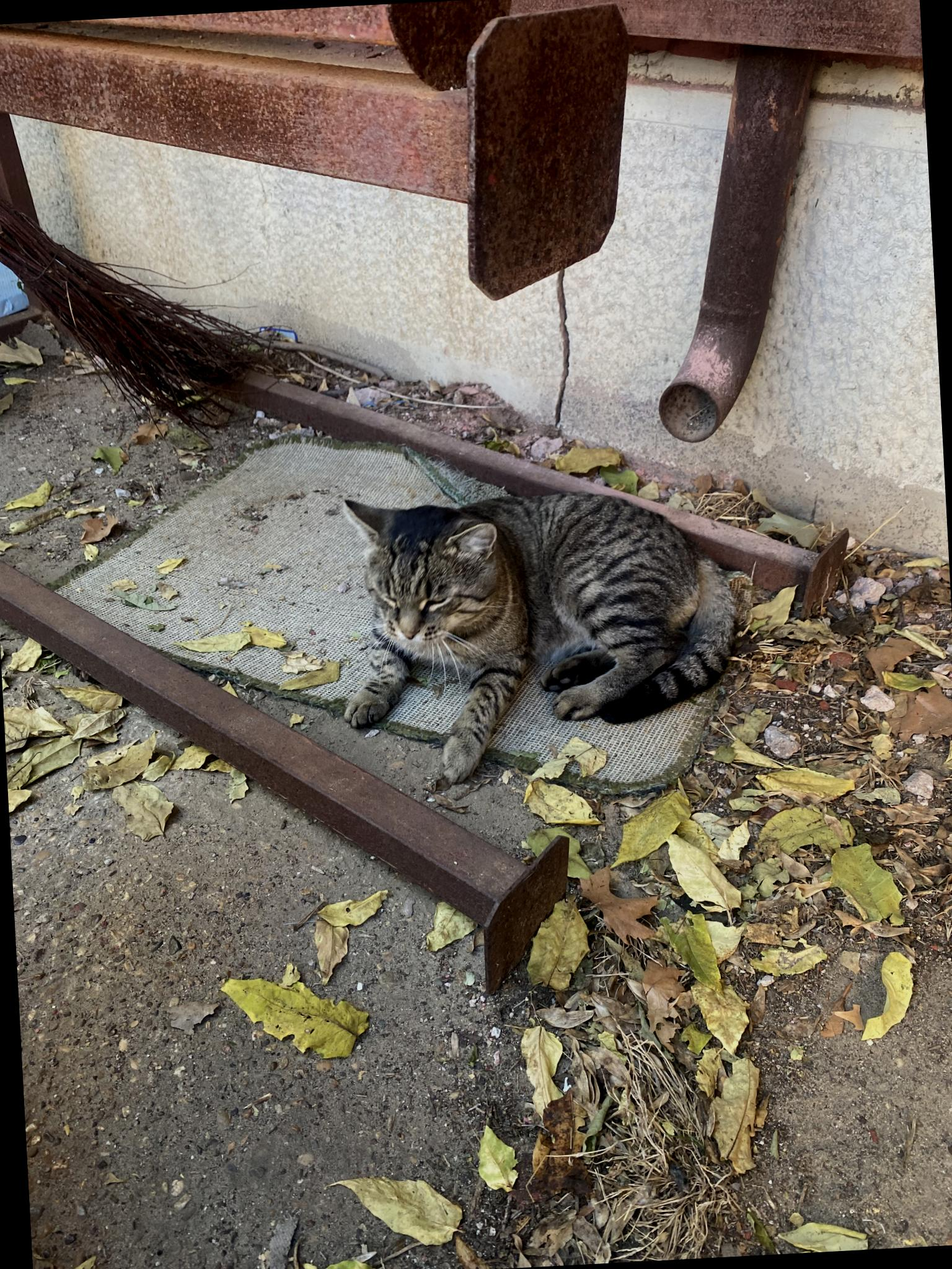macka: (334, 483, 743, 788)
